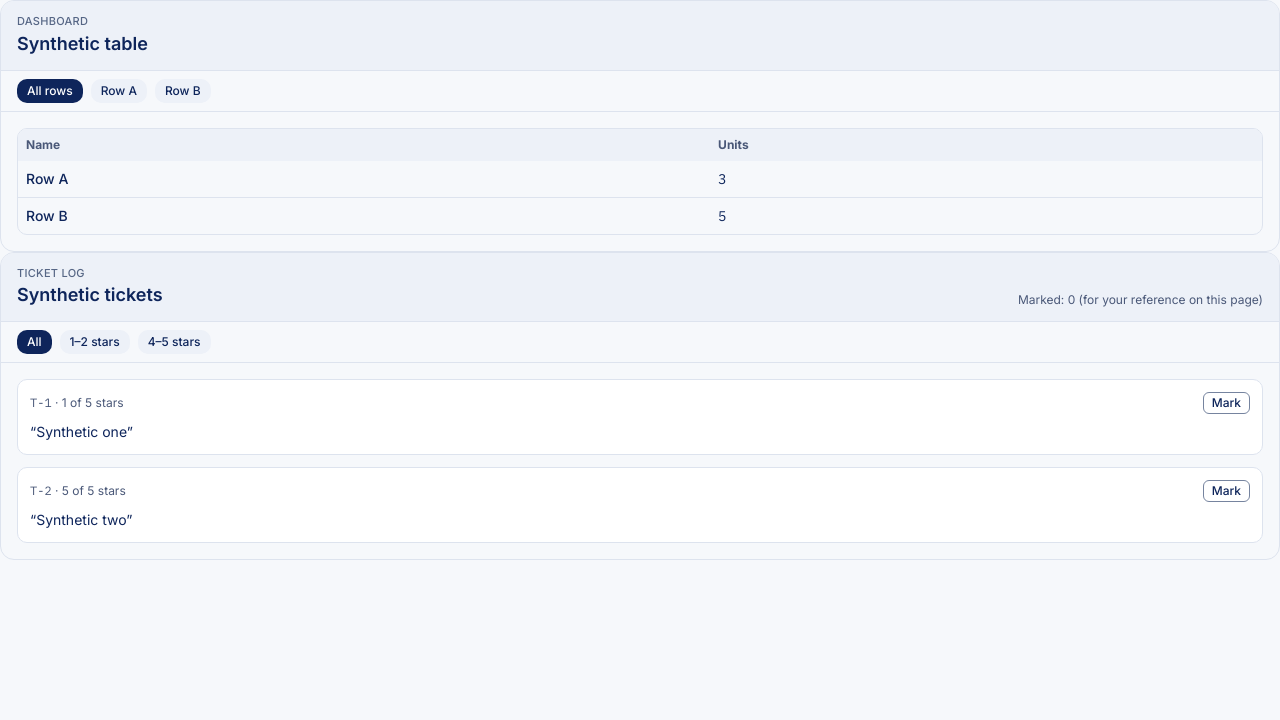
consent and work-material content › every work material shares one frame: kind, title, toolbar, and honest filters
The image size is (1280, 720).
Expected: the text "Dashboard" is shown, [17,14,88,28]
Expected: the text "Ticket log" is shown, [17,266,85,280]
Click the button "Row B": (183, 90) [155,78,211,102]
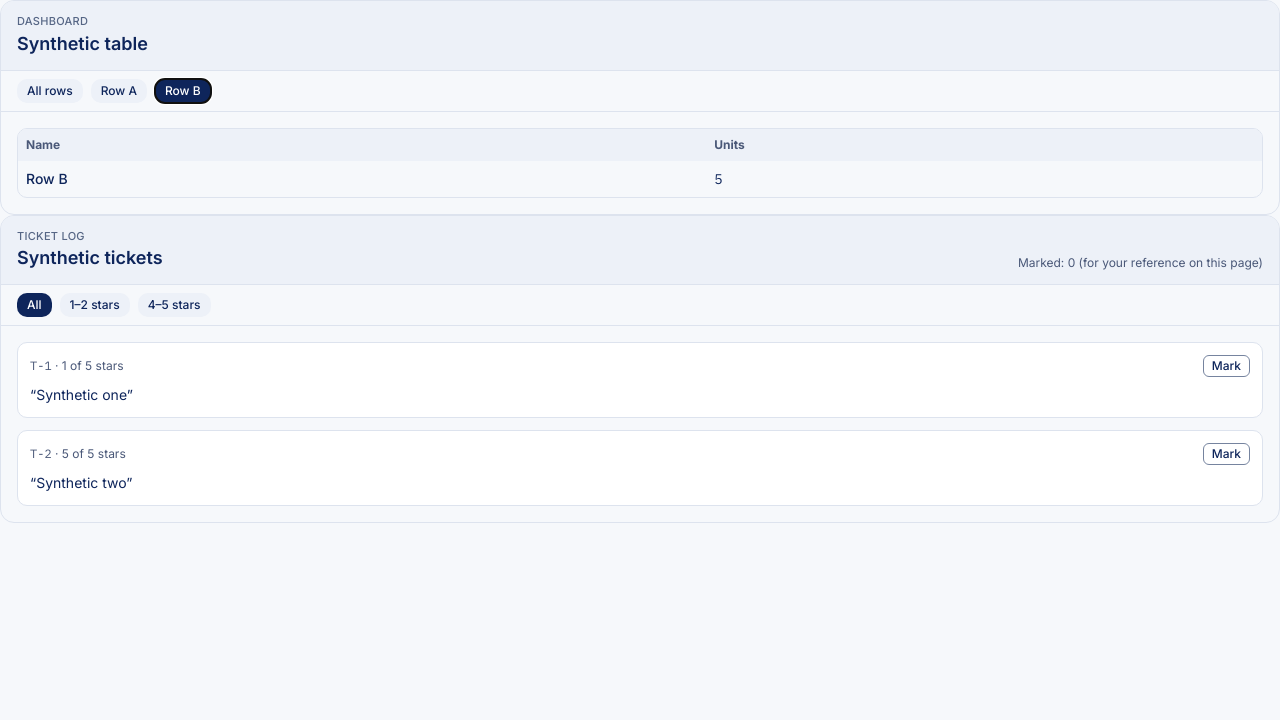
Result: the button "Row B" is pressed at [155,78,211,102]
Click the button "1–2 stars": (95, 305) [60,293,130,317]
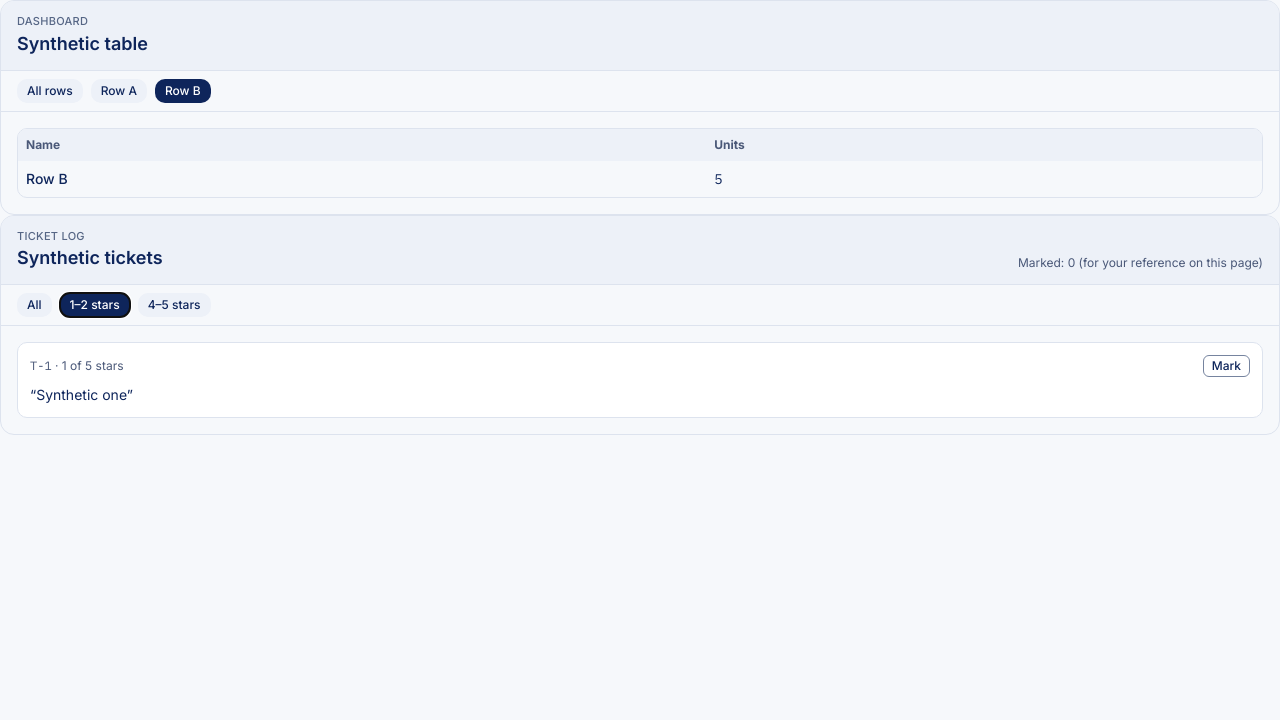
Expected: the text "“Synthetic one”" is shown, [30,386,133,403]
Result: the text "Synthetic two" is gone
